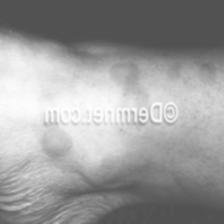Toxin: (101, 63, 153, 103), (35, 128, 72, 158), (33, 92, 58, 107)
